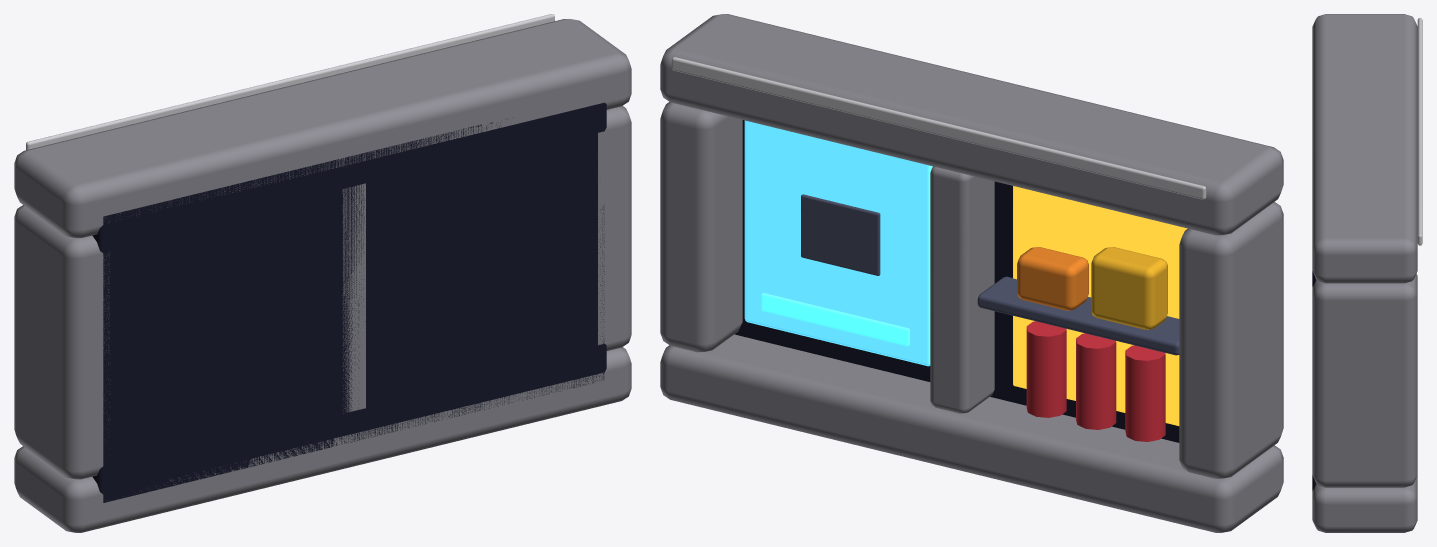
Rendered from prop.props_walls.walls_hall_screenbay.glb.
The picture shows the model from 3 angles, left to right: view 1: azimuth 30°, elevation 25°; view 2: azimuth 150°, elevation 25°; view 3: azimuth 270°, elevation 25°; orthographic projection. The views are drawn at different scales.
Visible parts, largest first — view 1: prop.props_walls.walls_hall_screenbay; view 2: prop.props_walls.walls_hall_screenbay; view 3: prop.props_walls.walls_hall_screenbay.
Part boxes in pixels (box(x1,y1,x2,y2)): prop.props_walls.walls_hall_screenbay: box(14, 14, 631, 532); prop.props_walls.walls_hall_screenbay: box(660, 14, 1283, 532); prop.props_walls.walls_hall_screenbay: box(1312, 14, 1422, 532).
Bounding box in the file's own units: 0.58 × 0.34 × 0.115.
